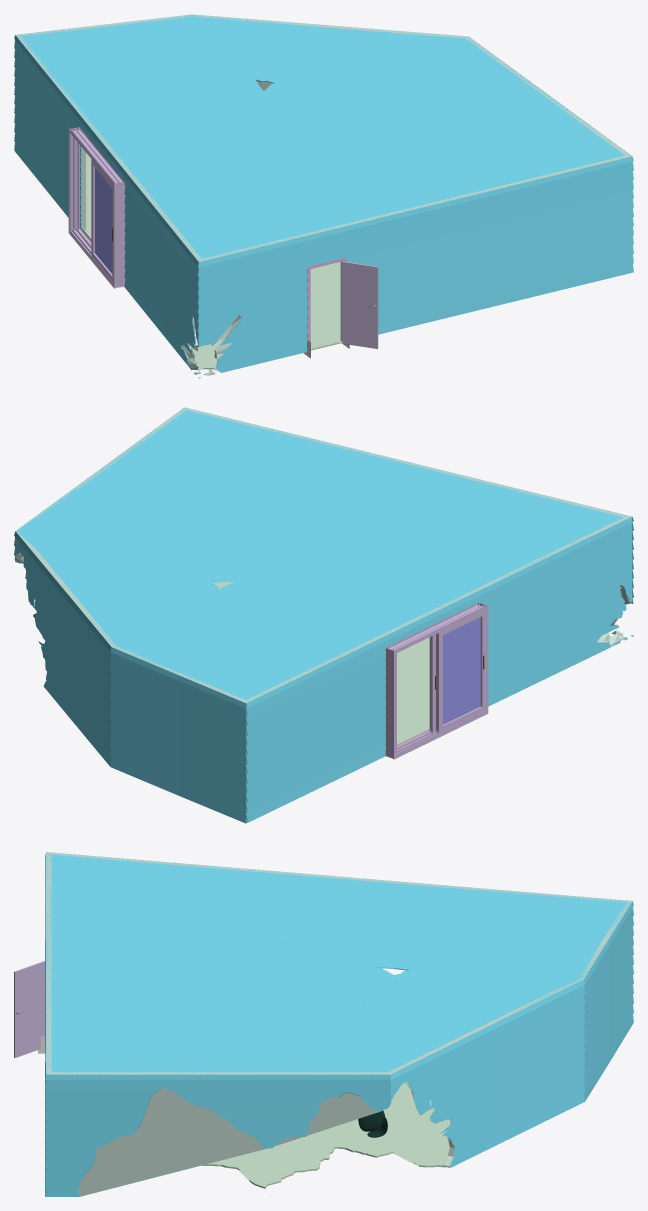
File: House_Rukmaksii_2_final.fbx
3 renders of one model, top to bottom at view 1: azimuth 30°, elevation 25°; view 2: azimuth 150°, elevation 25°; view 3: azimuth 270°, elevation 25°, orthographic. The views are drawn at different scales.
Visible parts, largest first — view 1: Ceiling, Wall_cover, Room, WindowFrame, Floor, Door, Window.R, DoorFrame; view 2: Ceiling, Wall_cover, Room, Window.R, WindowFrame, Floor, Window.L; view 3: Ceiling, Wall_cover, Room, Floor, Door, Pottolo chair.
Boxes of the visible parts, left/top/right/bottom form: Ceiling: left=16, top=14, right=631, bottom=261; Wall_cover: left=14, top=14, right=633, bottom=378; Room: left=16, top=14, right=631, bottom=377; WindowFrame: left=68, top=127, right=124, bottom=288; Floor: left=85, top=153, right=342, bottom=371; Door: left=342, top=261, right=378, bottom=348; Window.R: left=91, top=159, right=112, bottom=281; DoorFrame: left=307, top=257, right=346, bottom=346; Ceiling: left=16, top=408, right=631, bottom=702; Wall_cover: left=14, top=408, right=633, bottom=823; Room: left=15, top=407, right=632, bottom=821; Window.R: left=436, top=610, right=484, bottom=733; WindowFrame: left=385, top=602, right=488, bottom=759; Floor: left=213, top=581, right=618, bottom=749; Window.L: left=429, top=634, right=435, bottom=733; Ceiling: left=46, top=852, right=631, bottom=1074; Wall_cover: left=45, top=852, right=633, bottom=1196; Room: left=46, top=852, right=632, bottom=1196; Floor: left=202, top=1083, right=450, bottom=1196; Door: left=14, top=961, right=44, bottom=1057; Pottolo chair: left=358, top=1110, right=387, bottom=1137.
Bounding box in the file's own units: 984 × 259 × 1153.
